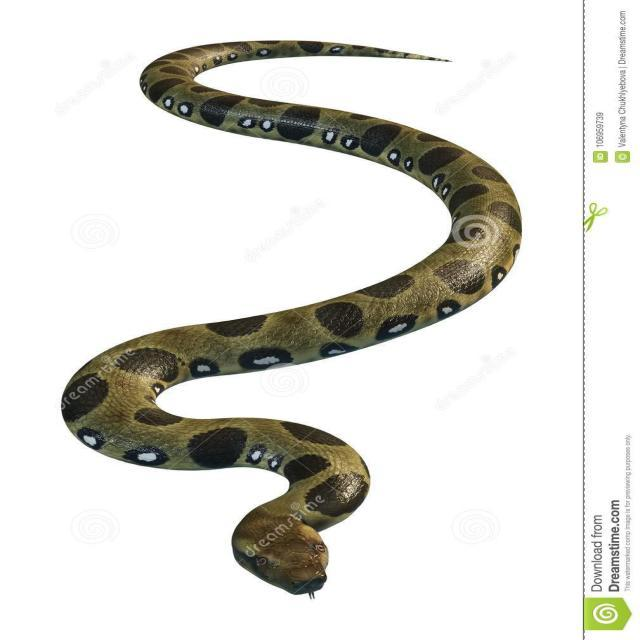Snake: (43, 0, 523, 604)
